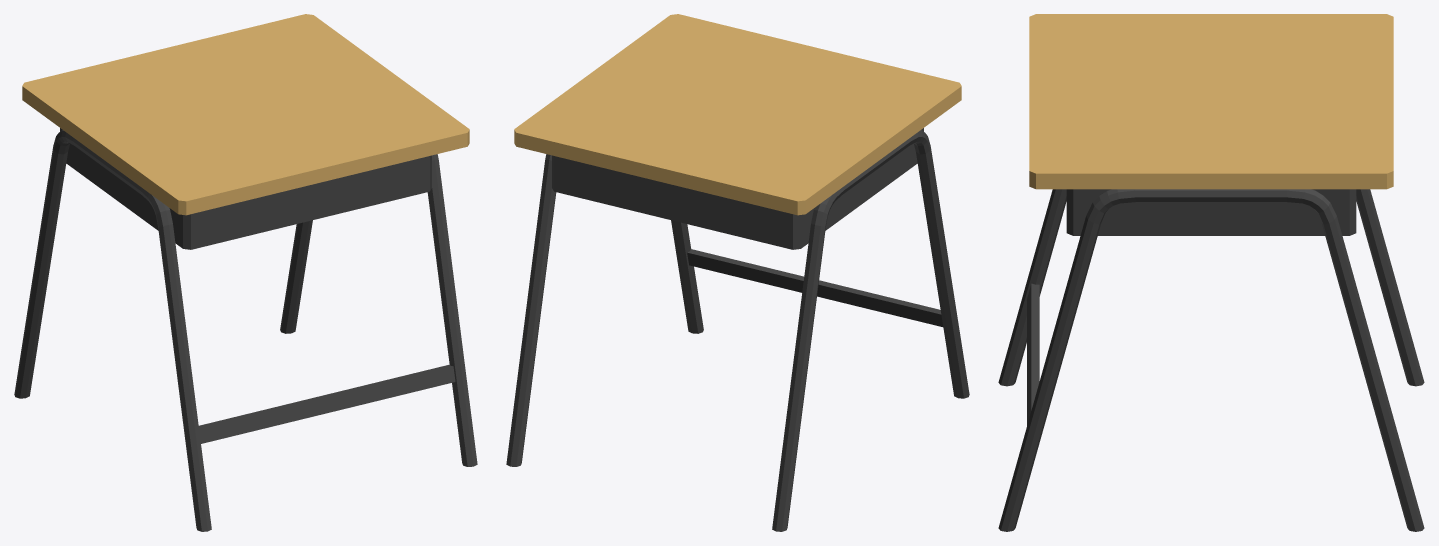
File: Student desk.fbx
3 renders of one model, left to right at view 1: azimuth 30°, elevation 25°; view 2: azimuth 150°, elevation 25°; view 3: azimuth 270°, elevation 25°, orthographic. The views are drawn at different scales.
Parts seen in each view (by area): view 1: Student desk; view 2: Student desk; view 3: Student desk.
Boxes of the visible parts, x1=… form: Student desk: x1=14, y1=14, x2=477, y2=531; Student desk: x1=506, y1=14, x2=969, y2=531; Student desk: x1=998, y1=14, x2=1424, y2=531.
Size of the model in its own units: 73.97 by 78.09 by 83.4.
